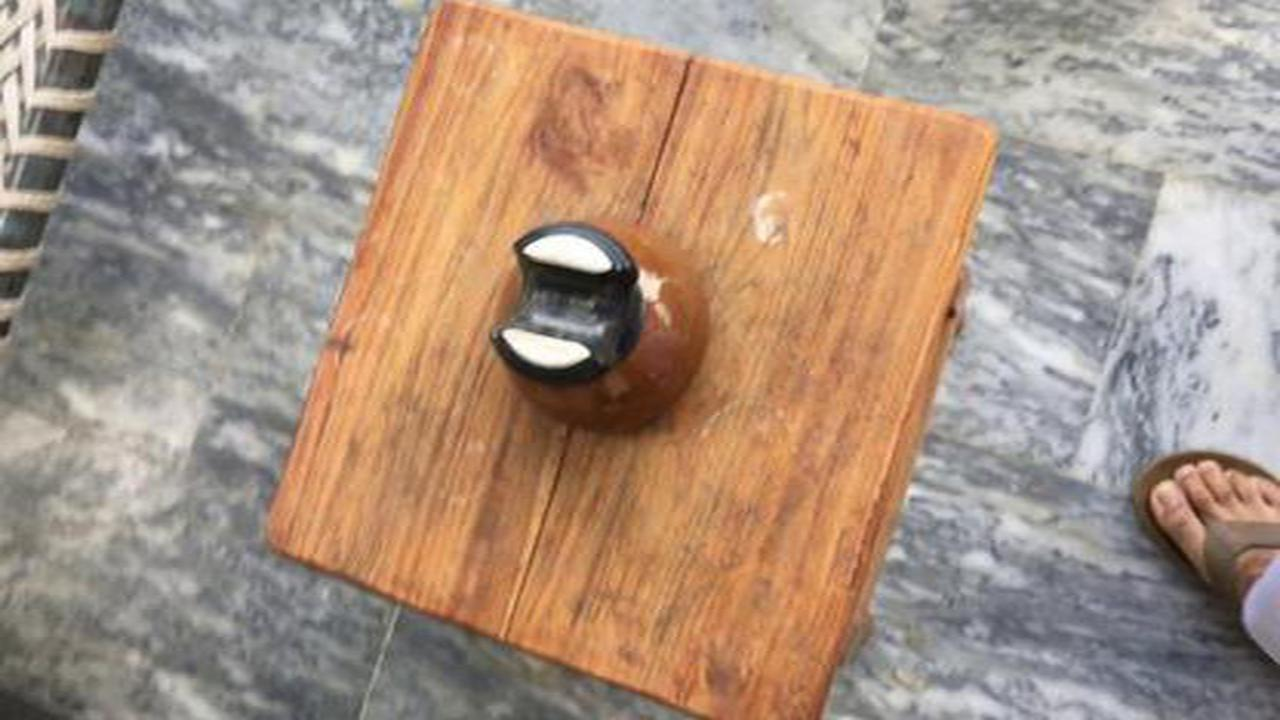insulator_pin: (465, 206, 727, 452)
